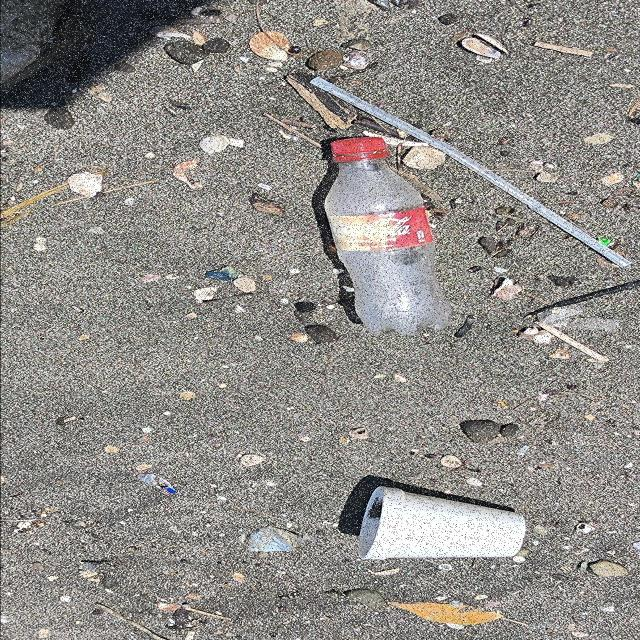plastic_waste: (306, 76, 634, 271), (323, 138, 453, 338), (358, 487, 527, 562)
